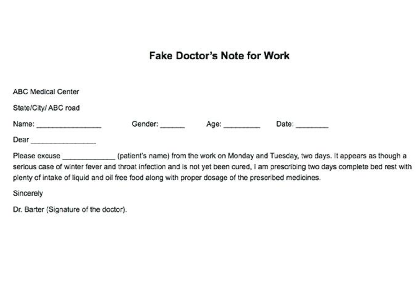textline: (35, 115, 103, 130), (29, 132, 98, 146), (60, 147, 116, 161), (222, 114, 264, 131), (294, 113, 333, 130), (159, 115, 186, 131)
